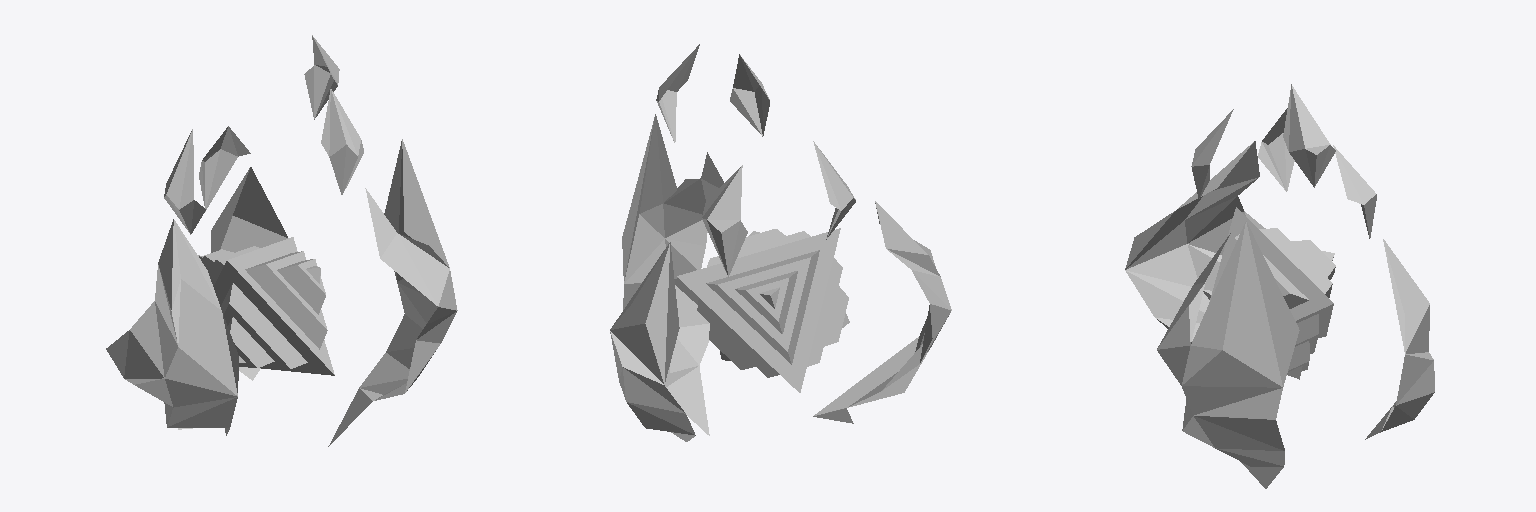
The model's file is soul_6.obj.
3 renders of one model, left to right at view 1: azimuth 30°, elevation 25°; view 2: azimuth 150°, elevation 25°; view 3: azimuth 270°, elevation 25°, orthographic.
Parts seen in each view (by area): view 1: soul6; view 2: soul6; view 3: soul6.
Boxes of the visible parts, x1,y1,x2,y2 form: soul6: [106, 35, 457, 446]; soul6: [610, 44, 951, 441]; soul6: [1125, 84, 1434, 488].
Size of the model in its own units: 1.2 by 1.47 by 1.02.